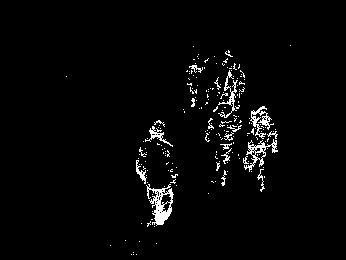person: (134, 118, 179, 227), (204, 92, 241, 187), (242, 105, 277, 192)
